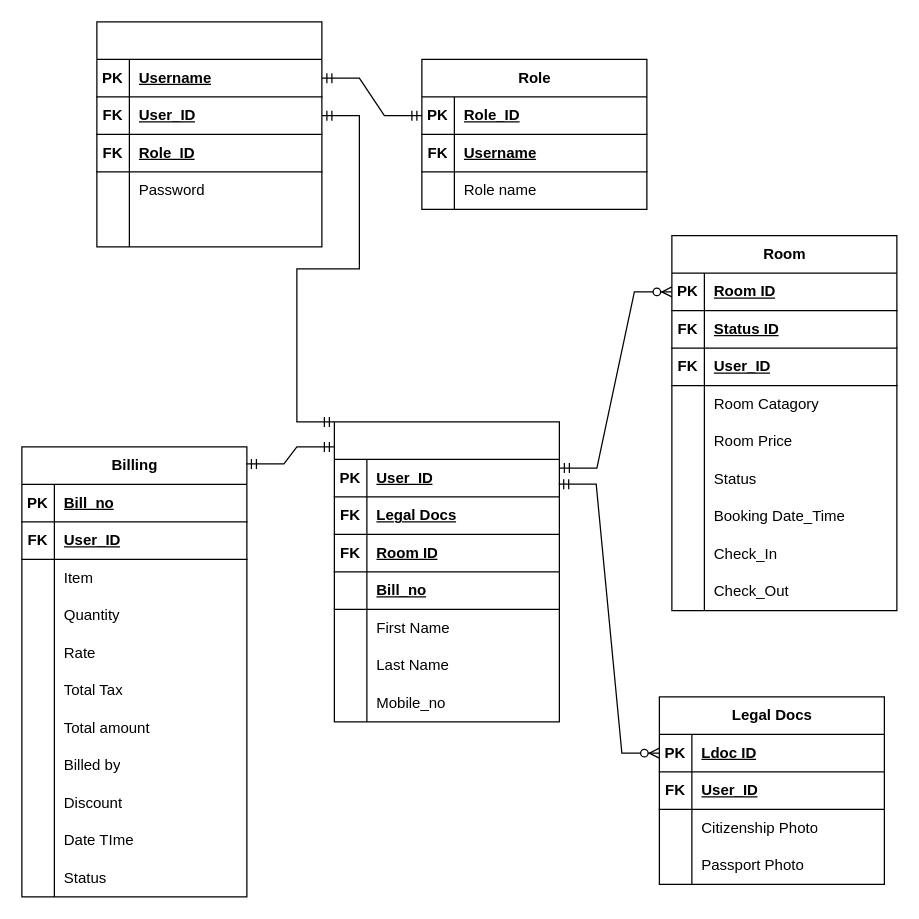
This 919x919 diagram has some shape labels left out. The box of each missing label's shape, as (x1, y1, x2, y2) in pixels:
Customer: (333, 421, 559, 722)
login: (96, 21, 322, 247)
